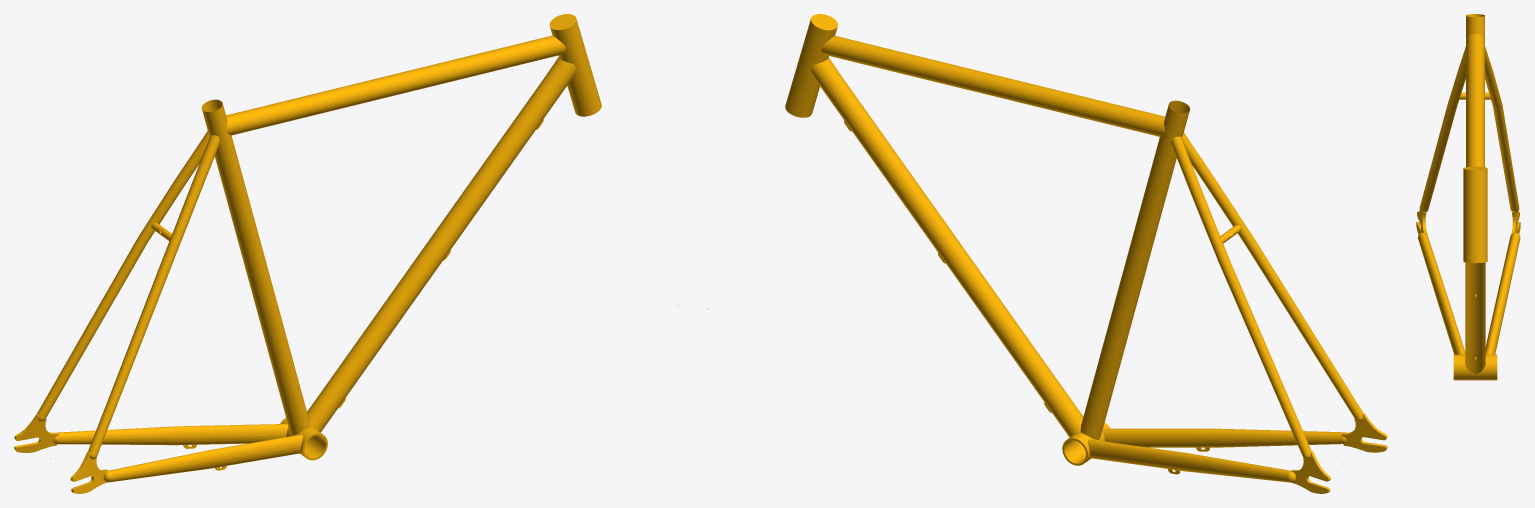
Rendered from MangoOSSFrameFinal.glb.
The picture shows the model from 3 angles, left to right: view 1: azimuth 30°, elevation 25°; view 2: azimuth 150°, elevation 25°; view 3: azimuth 270°, elevation 25°; orthographic projection. The views are drawn at different scales.
Visible parts, largest first — view 1: no_transformations; view 2: no_transformations; view 3: no_transformations.
Boxes of the visible parts, x1=… form: no_transformations: x1=14, y1=14, x2=601, y2=493; no_transformations: x1=785, y1=14, x2=1387, y2=493; no_transformations: x1=1416, y1=14, x2=1520, y2=380.
Size of the model in its own units: 1013 by 560 by 162.
